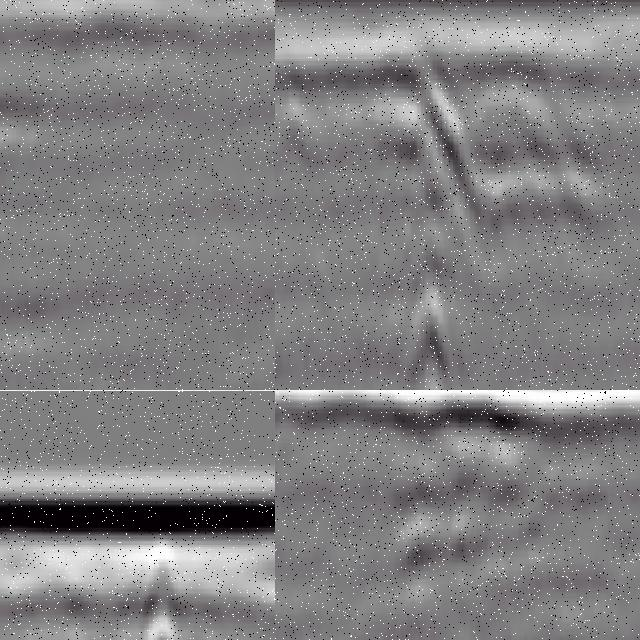crack: (381, 30, 470, 391), (143, 534, 183, 640)
loose: (380, 391, 551, 573), (1, 79, 65, 219)
